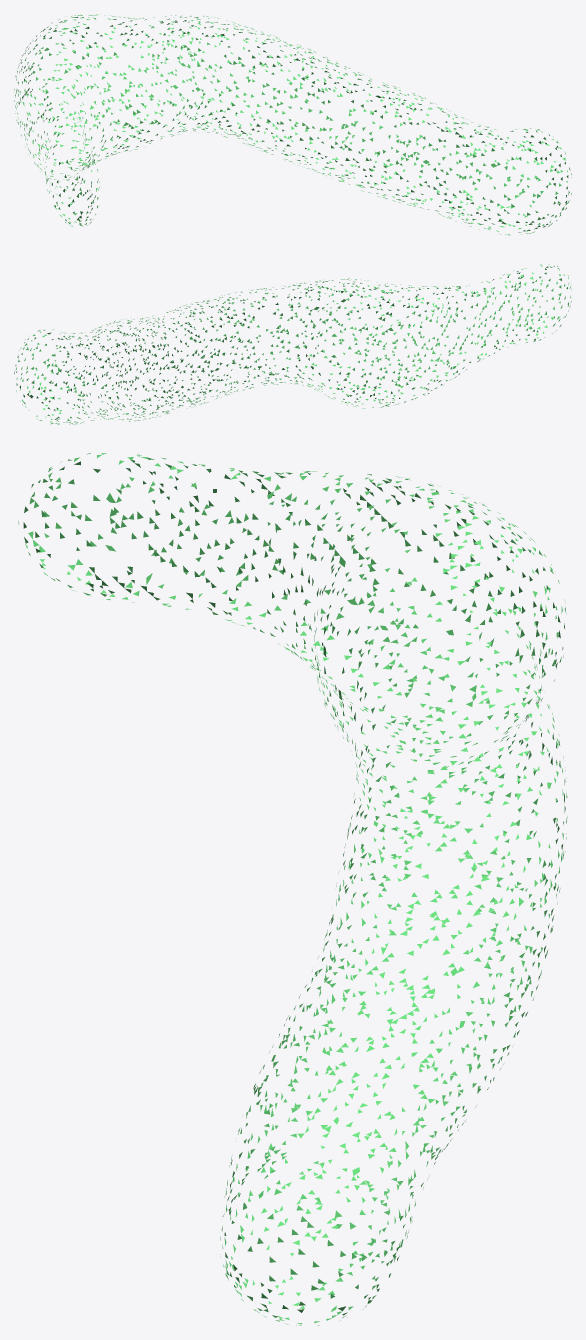
Rendered from morph_019.glb.
3 views of the same model, one above another, from view 1: azimuth 30°, elevation 25°; view 2: azimuth 150°, elevation 25°; view 3: azimuth 270°, elevation 25° (orthographic). The views are drawn at different scales.
Bounding box in the file's own units: 110 × 52.03 × 54.11.
